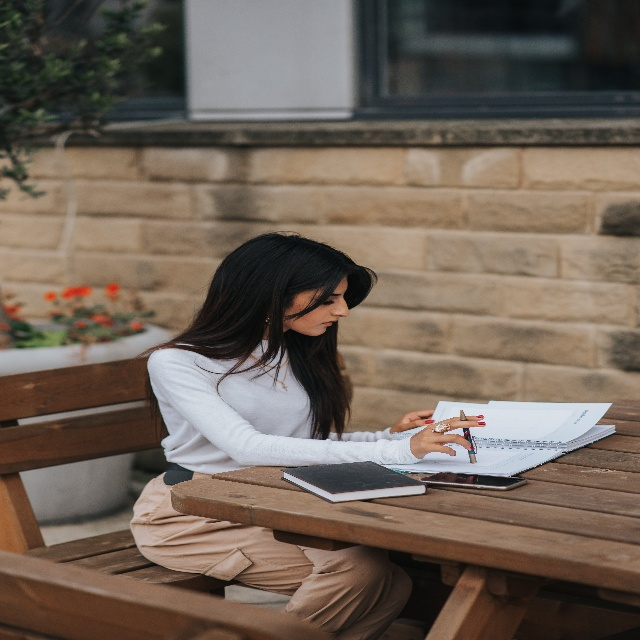Sin_guantes: (410, 414, 486, 459), (390, 409, 436, 436)
